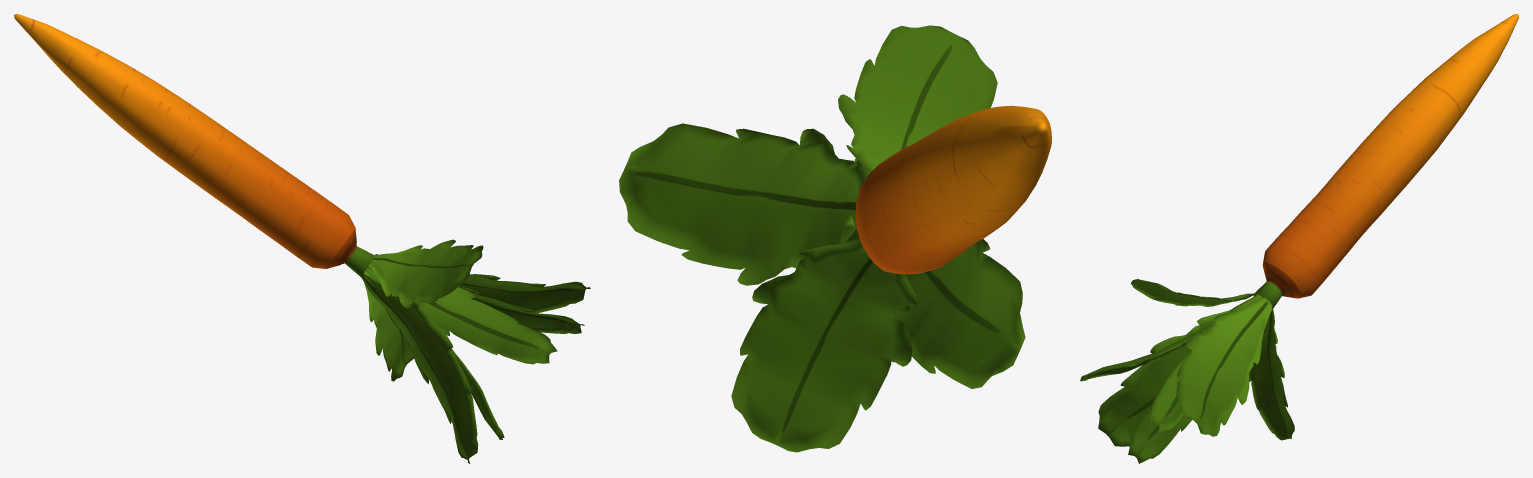
File: carrot_dynamic.obj
The picture shows the model from 3 angles, left to right: view 1: azimuth 30°, elevation 25°; view 2: azimuth 150°, elevation 25°; view 3: azimuth 270°, elevation 25°; orthographic projection. The views are drawn at different scales.
Bounding box in the file's own units: 0.5804 × 0.4869 × 0.5938.
Materials: 3 (3 with a texture image).
